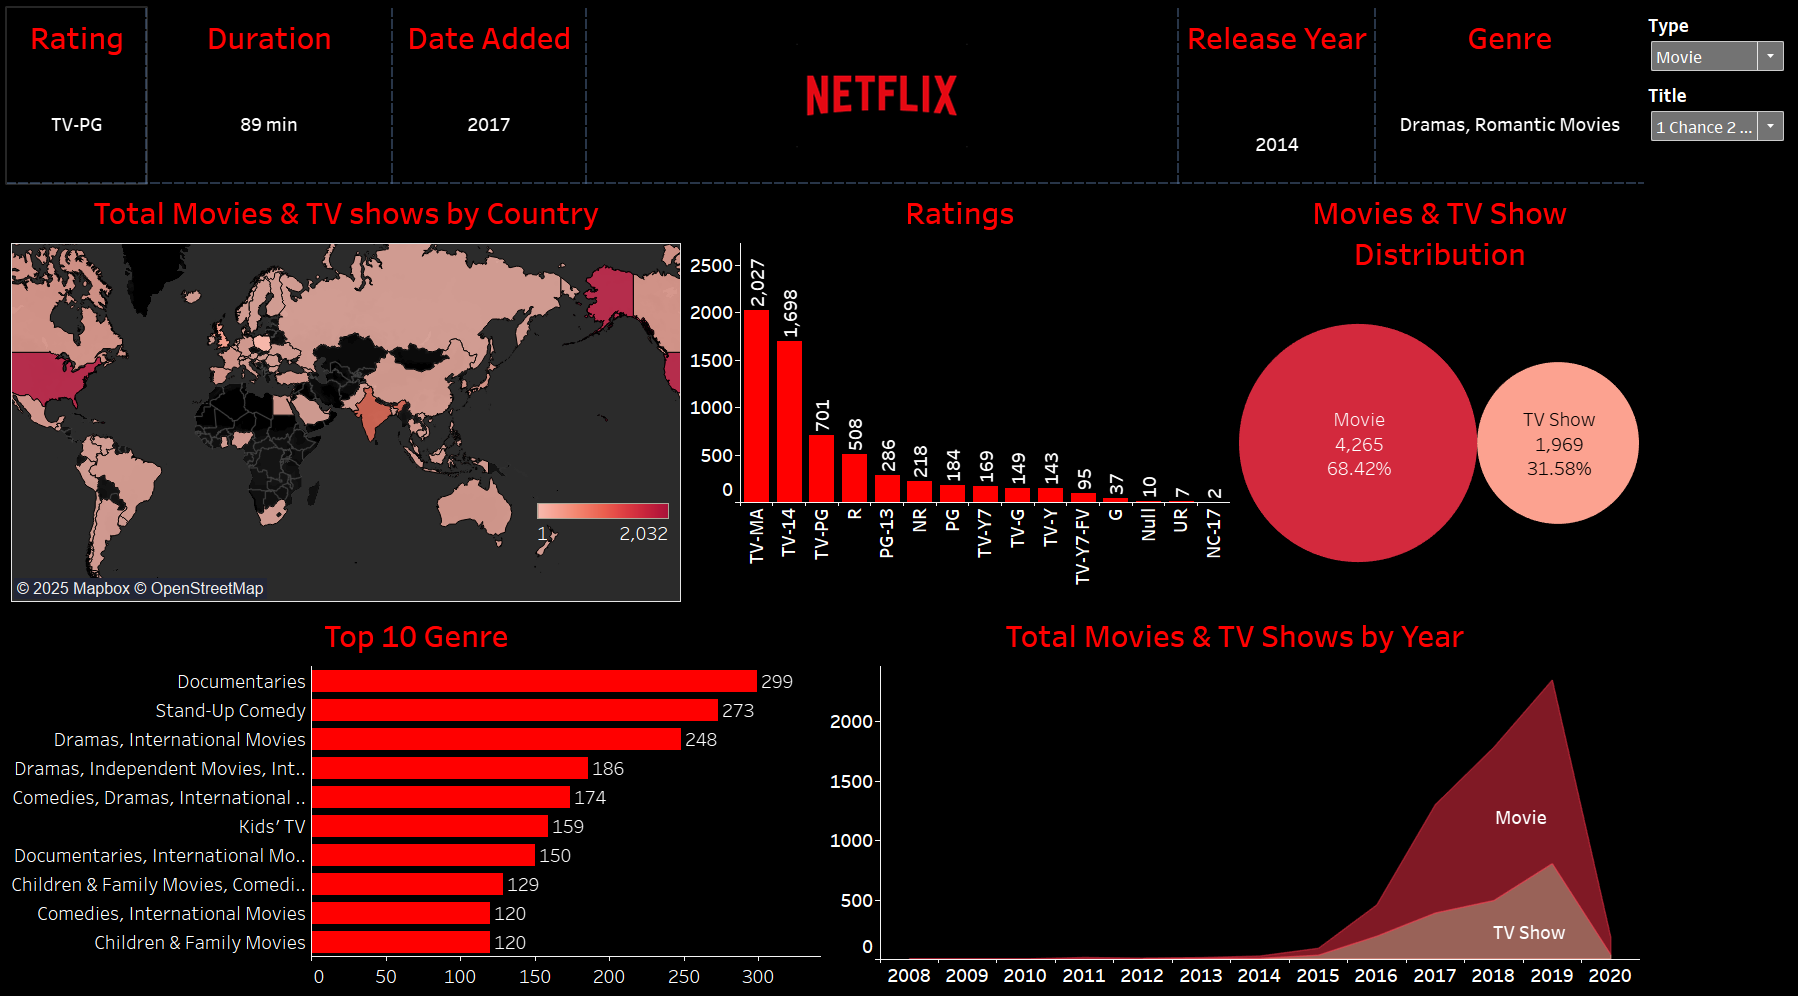

The page's visual inventory and layout, read from the dashboard file:
{"tool":"tableau","page":{"name":"Netflix","canvas":[1800,1000],"ordinal":0},"visuals":[{"type":"worksheet","title":"Individual Rating","mark":"Automatic","box":[8,8,139.1,175]},{"type":"worksheet","title":"Duration","mark":"Automatic","box":[147.1,8,245.7,175]},{"type":"worksheet","title":"Date Added","mark":"Automatic","box":[392.8,8,194.1,175]},{"type":"image","param":"Image/Netflix.png","box":[587,8,592,175]},{"type":"worksheet","title":"Release Year","mark":"Automatic","box":[1179,8,197,175]},{"type":"worksheet","title":"Genre","mark":"Automatic","box":[1376,8,269,175]},{"type":"filter","title":"Date Added","param":"[federated.0nampms0sofstf1cchnmy1dz8bub].[none:type:nk]","box":[1645,8,147,70]},{"type":"filter","title":"Date Added","param":"[federated.0nampms0sofstf1cchnmy1dz8bub].[none:title:nk]","box":[1645,78,147,70]},{"type":"worksheet","title":"Total Movies & TV Shows by Country","mark":"Multipolygon","box":[8,183,678.3,423]},{"type":"worksheet","title":"Ratings","mark":"Automatic","rows":["show_id"],"cols":["rating"],"box":[686.3,183,549.3,423]},{"type":"worksheet","title":"Movies & TV Show Distribution","mark":"Circle","box":[1235.7,183,409.3,423]},{"type":"legend","title":"Total Movies & TV Shows by Country","param":"[federated.0nampms0sofstf1cchnmy1dz8bub].[ctd:show_id:qk]","box":[534,498.9,140,52.2]},{"type":"worksheet","title":"Top 10 Genre","mark":"Automatic","rows":["listed_in"],"cols":["show_id"],"box":[8,606,818.5,386]},{"type":"worksheet","title":"Total Movies & TV Shows by Year","mark":"Area","rows":["show_id"],"cols":["date_added"],"box":[826.5,606,818.5,386]}]}

Visuals, with their boxes in screenshot pixels (x1, y1, x2, y2), scaled from the page's 1800x1000 canvas onto the 1798x996 screenshot:
"Individual Rating" worksheet: 8/8/147/182
"Duration" worksheet: 147/8/392/182
"Date Added" worksheet: 392/8/586/182
image: 586/8/1178/182
"Release Year" worksheet: 1178/8/1374/182
"Genre" worksheet: 1374/8/1643/182
"Date Added" filter: 1643/8/1790/78
"Date Added" filter: 1643/78/1790/147
"Total Movies & TV Shows by Country" worksheet (Multipolygon marks): 8/182/686/604
"Ratings" worksheet: 686/182/1234/604
"Movies & TV Show Distribution" worksheet (Circle marks): 1234/182/1643/604
"Total Movies & TV Shows by Country" legend: 533/497/673/549
"Top 10 Genre" worksheet: 8/604/826/988
"Total Movies & TV Shows by Year" worksheet (Area marks): 826/604/1643/988
